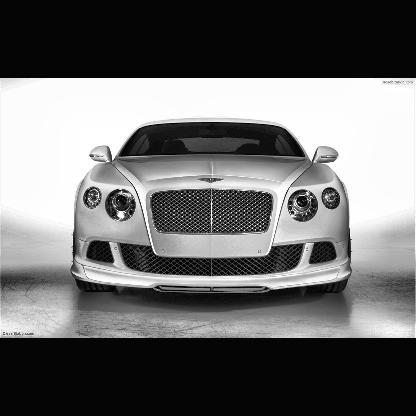Bentley Continental GT Coupe 2012: (71, 120, 353, 294)
